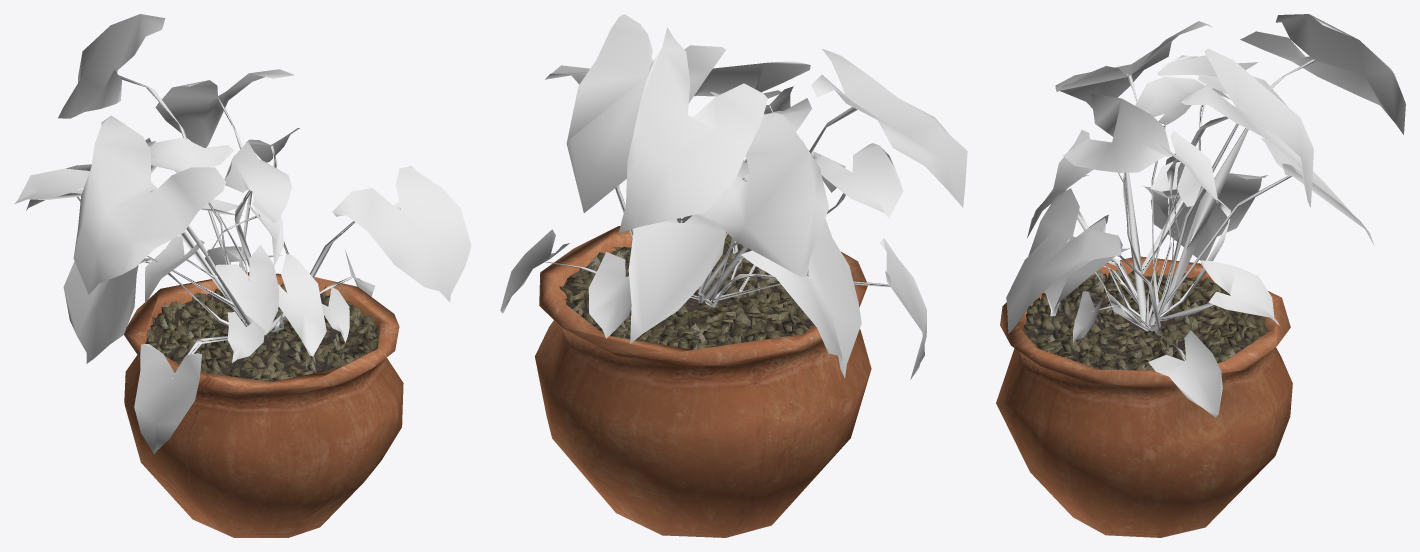
File: potted_plant_02.fbx
The picture shows the model from 3 angles, left to right: view 1: azimuth 30°, elevation 25°; view 2: azimuth 150°, elevation 25°; view 3: azimuth 270°, elevation 25°; orthographic projection. The views are drawn at different scales.
Parts seen in each view (by area): view 1: potted_plant_02; view 2: potted_plant_02; view 3: potted_plant_02.
Part boxes in pixels (x1,y1,x2,y2): potted_plant_02: [15, 14, 471, 537]; potted_plant_02: [500, 14, 967, 537]; potted_plant_02: [996, 14, 1405, 537].
Size of the model in its own units: 0.6992 by 0.8437 by 0.6612.
2 materials, 1 textured.
